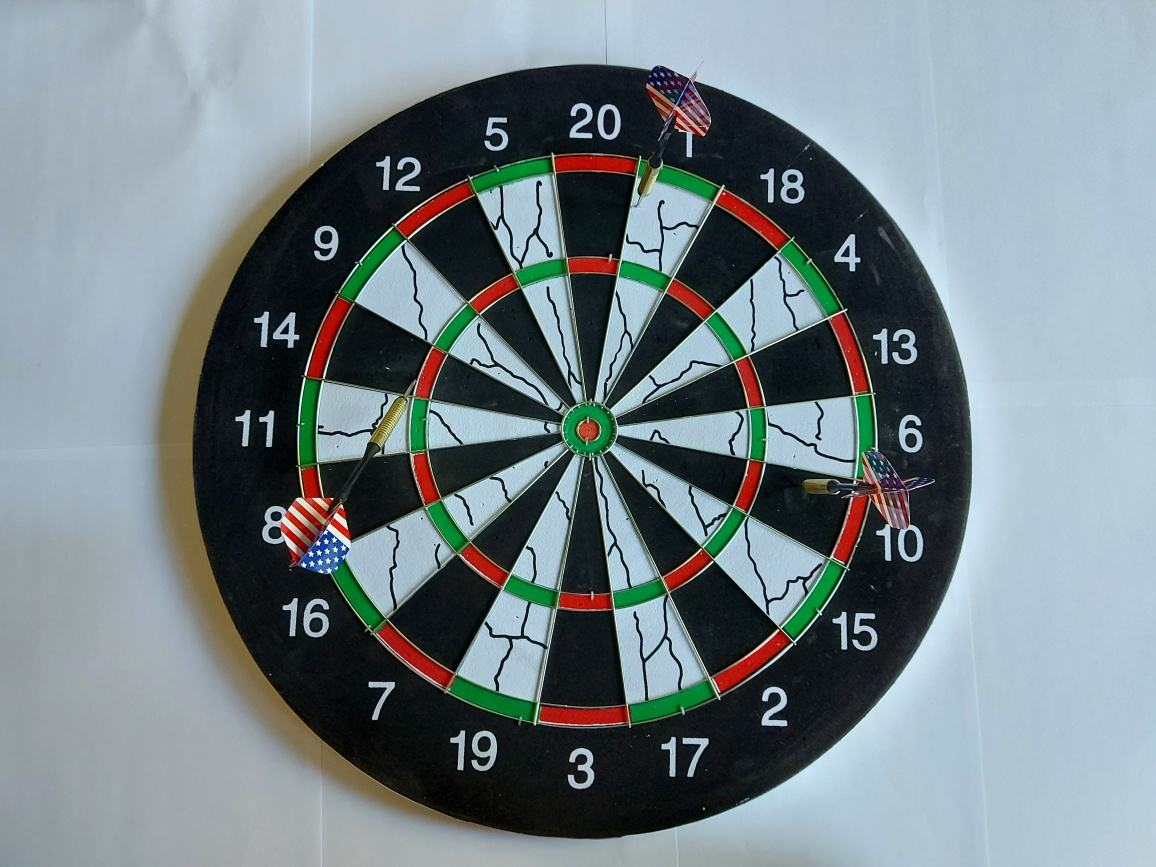Dart: (271, 363, 425, 579), (772, 442, 943, 543), (626, 49, 717, 220)
